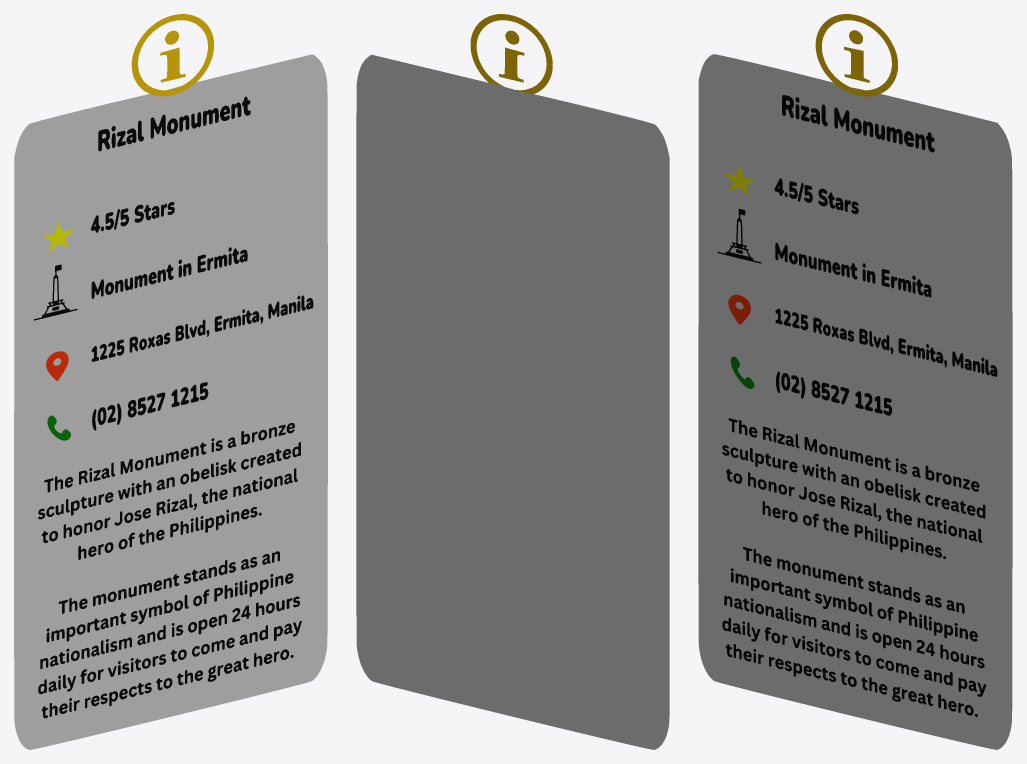
File: RIZAL-1-CONTAINER.fbx
The picture shows the model from 3 angles, left to right: view 1: azimuth 30°, elevation 25°; view 2: azimuth 150°, elevation 25°; view 3: azimuth 330°, elevation 25°; orthographic projection.
Visible parts, largest first — view 1: Curve.001; view 2: Curve.001; view 3: Curve.001.
Part boxes in pixels (x1=…): Curve.001: x1=14, y1=14, x2=327, y2=749; Curve.001: x1=356, y1=14, x2=669, y2=749; Curve.001: x1=698, y1=14, x2=1012, y2=749.
Size of the model in its own units: 21.09 by 45.04 by 0.2098.
